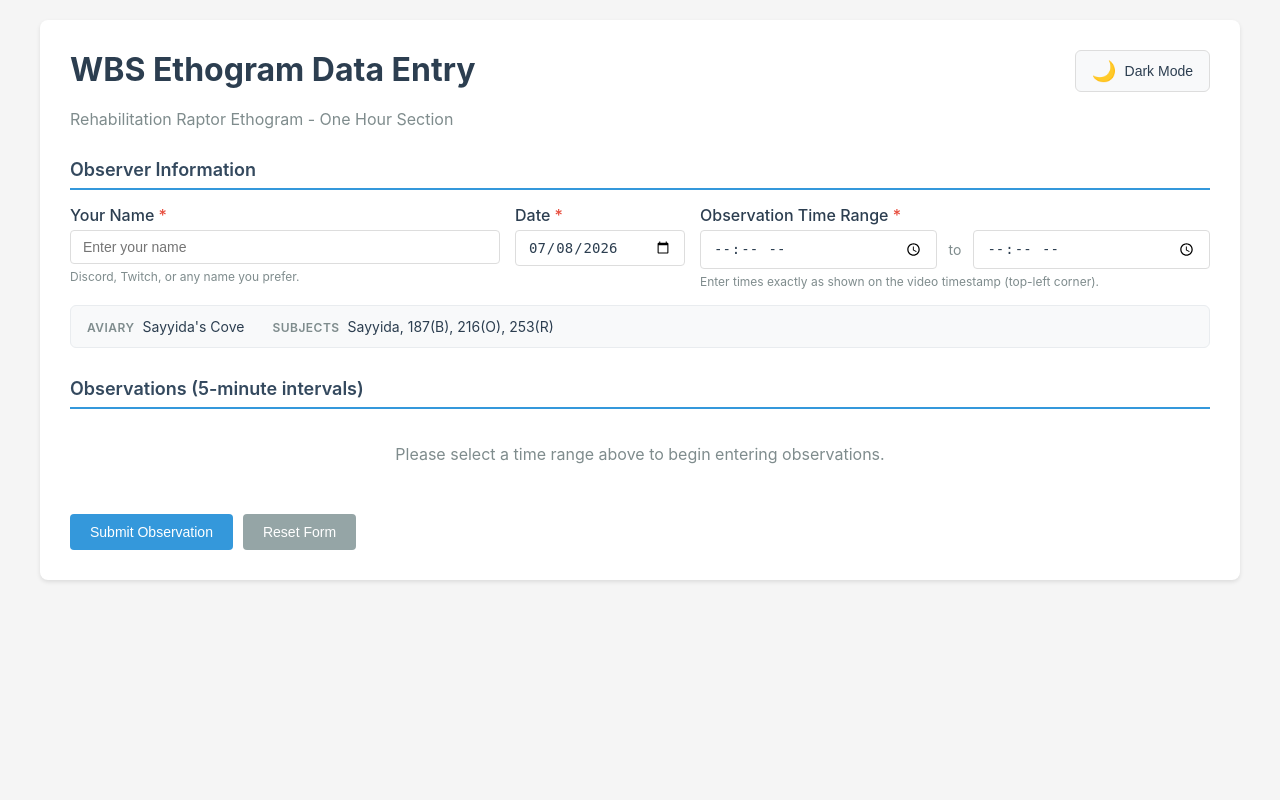
it: App Integration Tests › Reset Form › clears all form data when Reset Form button is clicked
// Fill in some data
Type "TestObserver" into the field with placeholder "Enter your name" at point(285, 247), box [70,230,500,264]
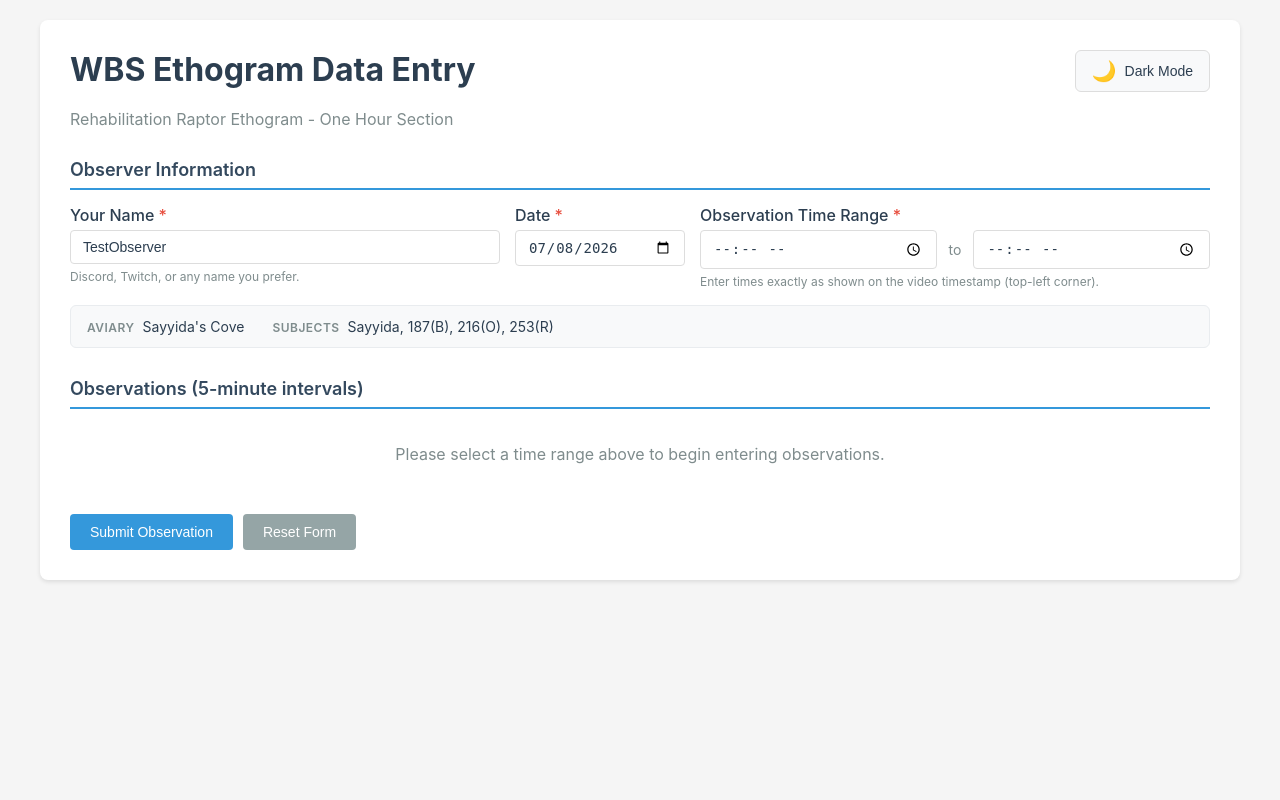
Type "10:00" into the 1st time field at point(818, 249), box [700,230,937,269]
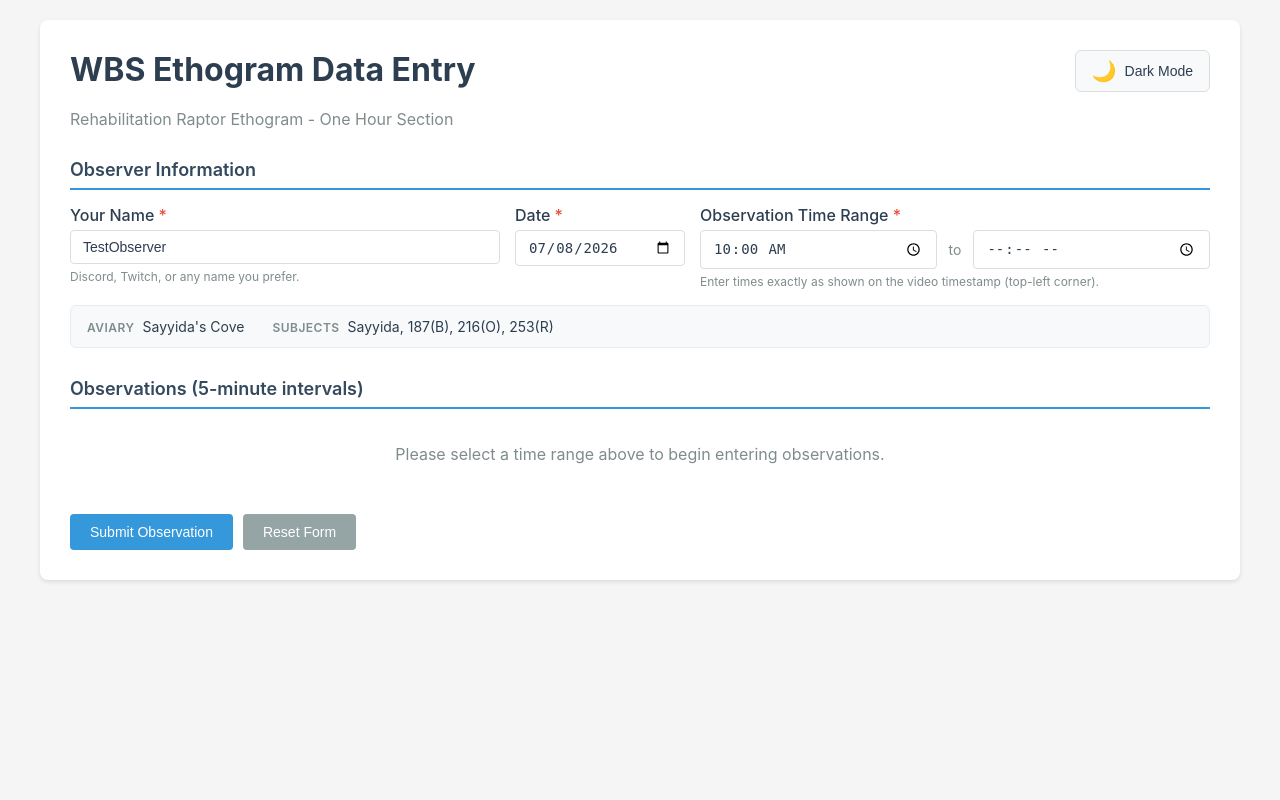
Type "10:10" into the 2nd time field at point(1092, 249), box [973,230,1210,269]
(page scrolled)
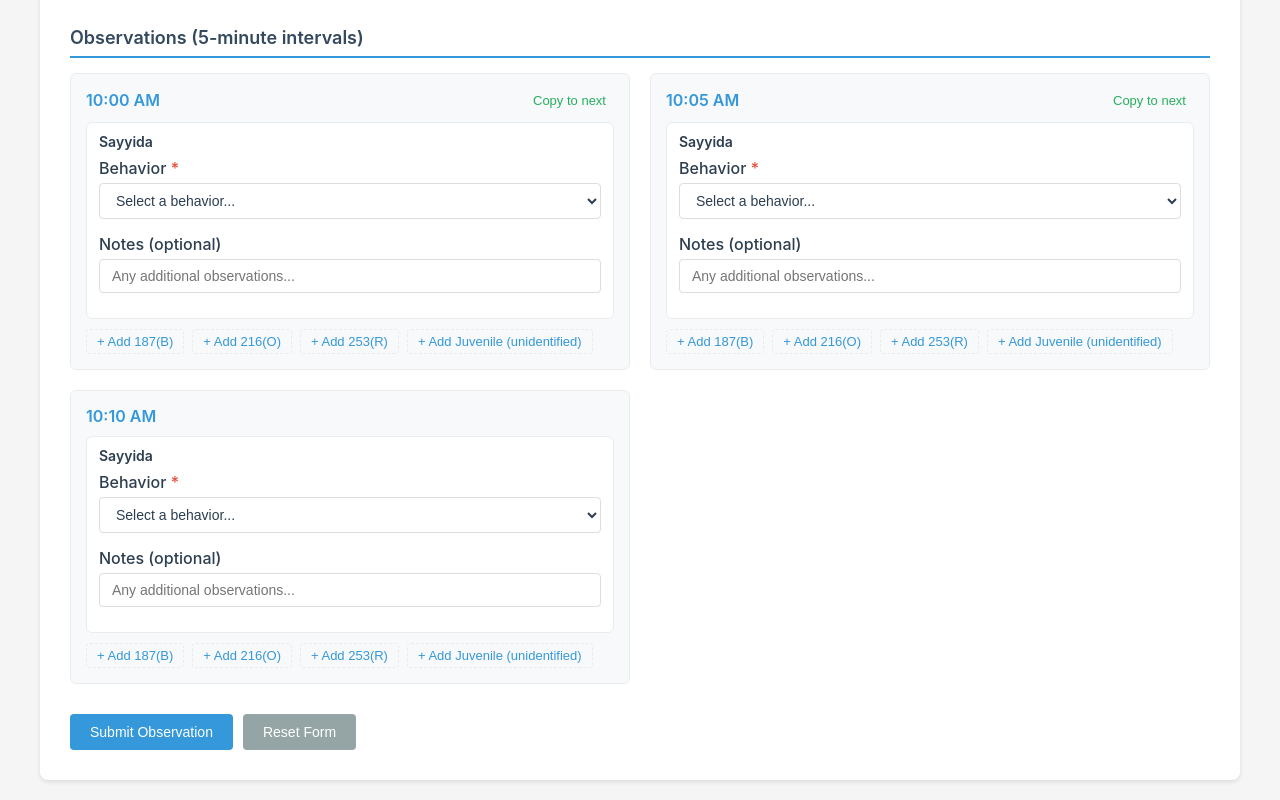
Expected: the text "10:00 AM" is shown, [86,90,160,110]
// Reset form
Click the button "Reset Form" at point(300, 732), box [243,714,356,750]
(page scrolled)
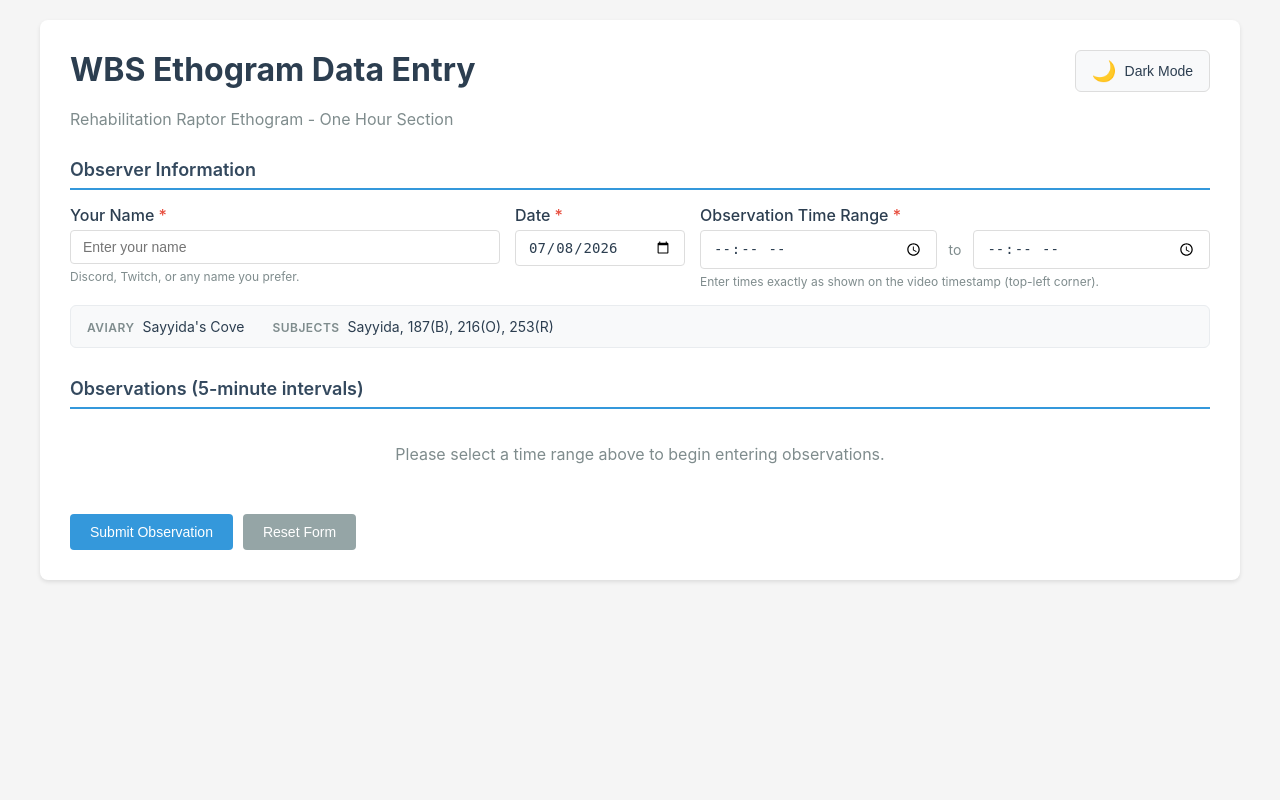
Expected: the field with placeholder "Enter your name" is empty, [70,230,500,264]
Expected: the text "10:00 AM" is gone
